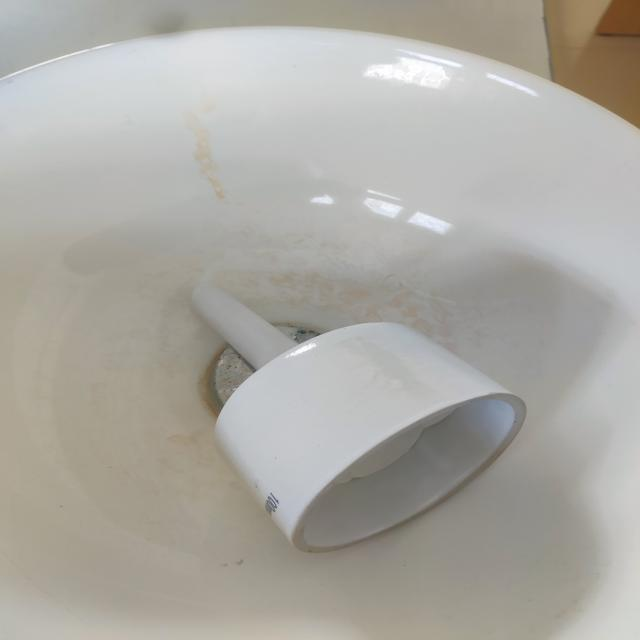Buchner_Funnel: (141, 237, 557, 576)
